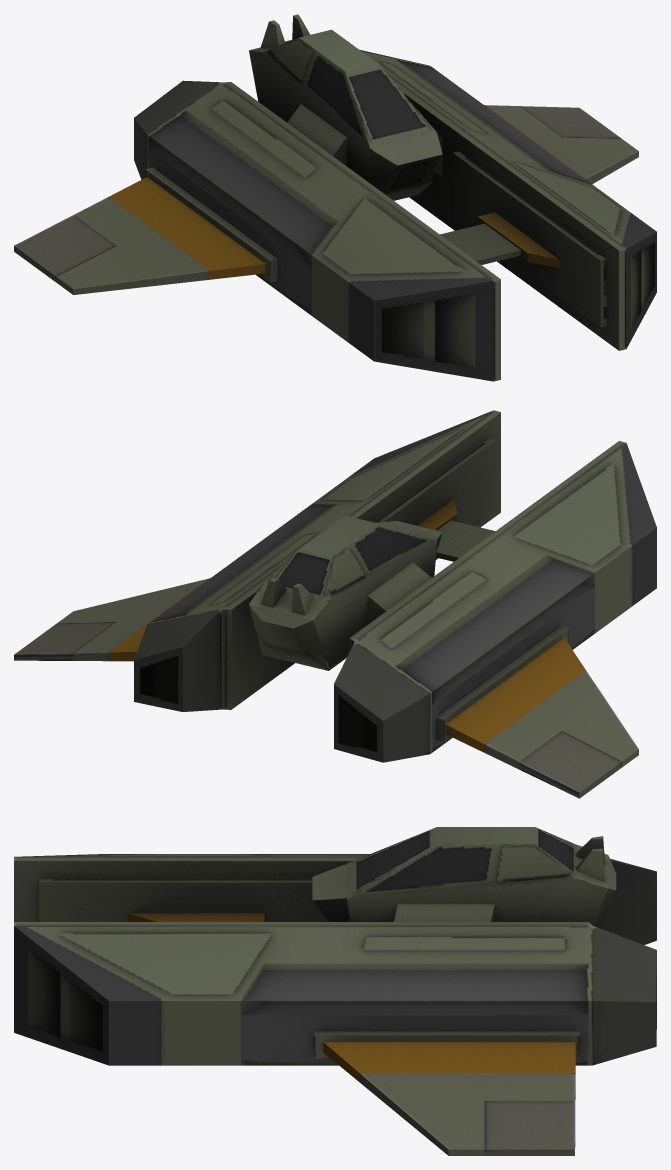
File: FighterLow_FBX.fbx
3 renders of one model, top to bottom at view 1: azimuth 30°, elevation 25°; view 2: azimuth 150°, elevation 25°; view 3: azimuth 270°, elevation 25°, orthographic. The views are drawn at different scales.
Visible parts, largest first — view 1: FighterLow; view 2: FighterLow; view 3: FighterLow.
Part boxes in pixels (left/top/right/bottom): FighterLow: left=14, top=14, right=656, bottom=381; FighterLow: left=14, top=410, right=656, bottom=798; FighterLow: left=14, top=827, right=656, bottom=1155.
Size of the model in its own units: 6.87 by 1.89 by 6.35.
